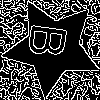B: (27, 22, 77, 61)
